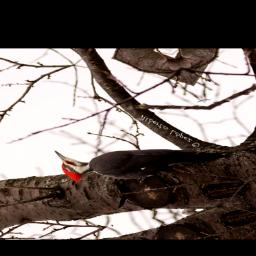Woodpecker: (48, 122, 236, 193)
